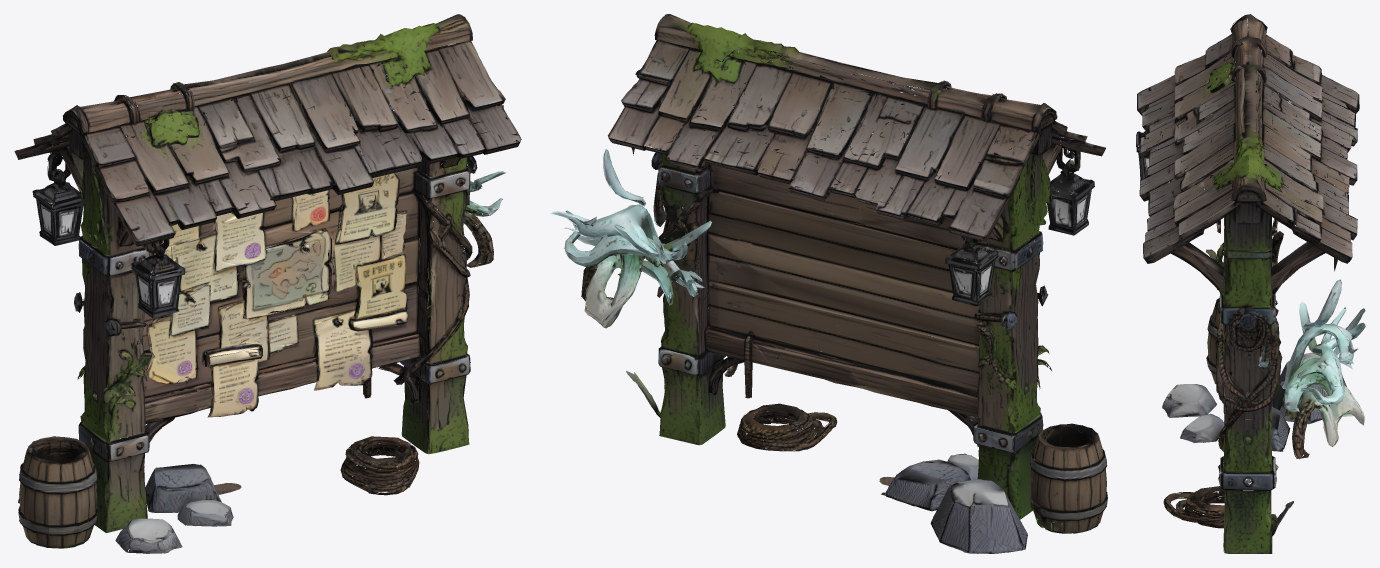
The model's file is TownBoard.fbx.
3 views of the same model, side by side, from view 1: azimuth 30°, elevation 25°; view 2: azimuth 150°, elevation 25°; view 3: azimuth 270°, elevation 25° (orthographic). The views are drawn at different scales.
Parts seen in each view (by area): view 1: node_0; view 2: node_0; view 3: node_0.
Part boxes in pixels (<box>): node_0: <box>14,14,521,553</box>; node_0: <box>550,14,1107,553</box>; node_0: <box>1136,14,1365,553</box>.
Bounding box in the file's own units: 127 × 100 × 55.11.
1 material, 1 textured.
